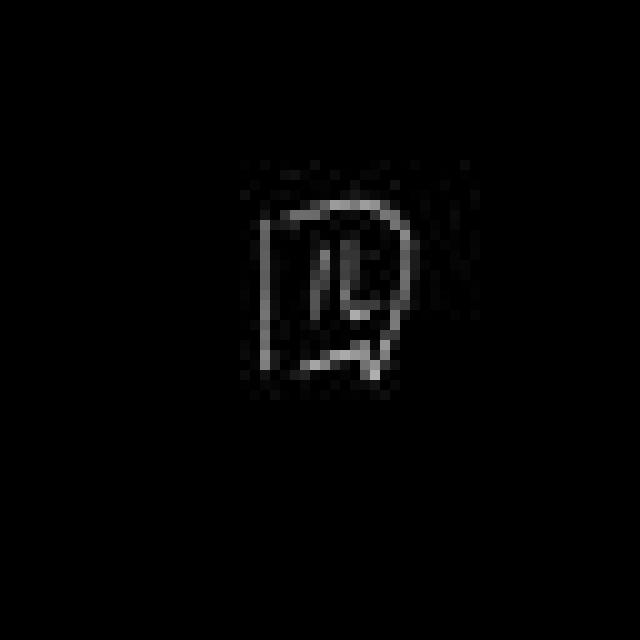4 -four-: (237, 184, 424, 385)
